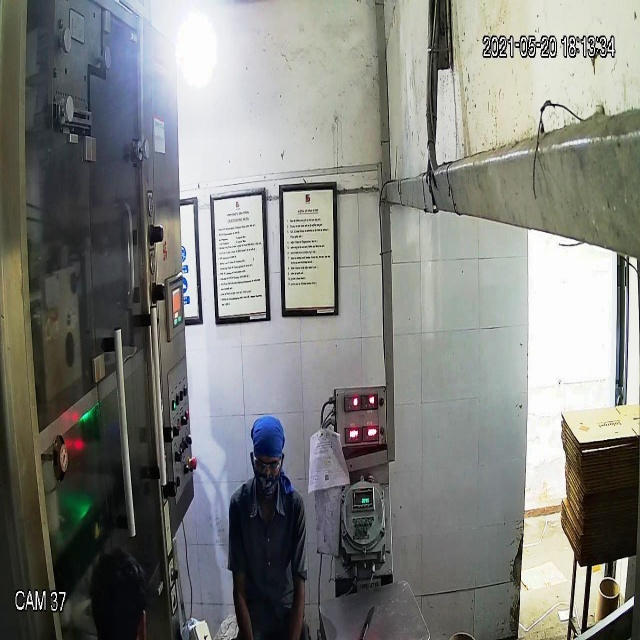Gafas: (248, 445, 288, 482)
